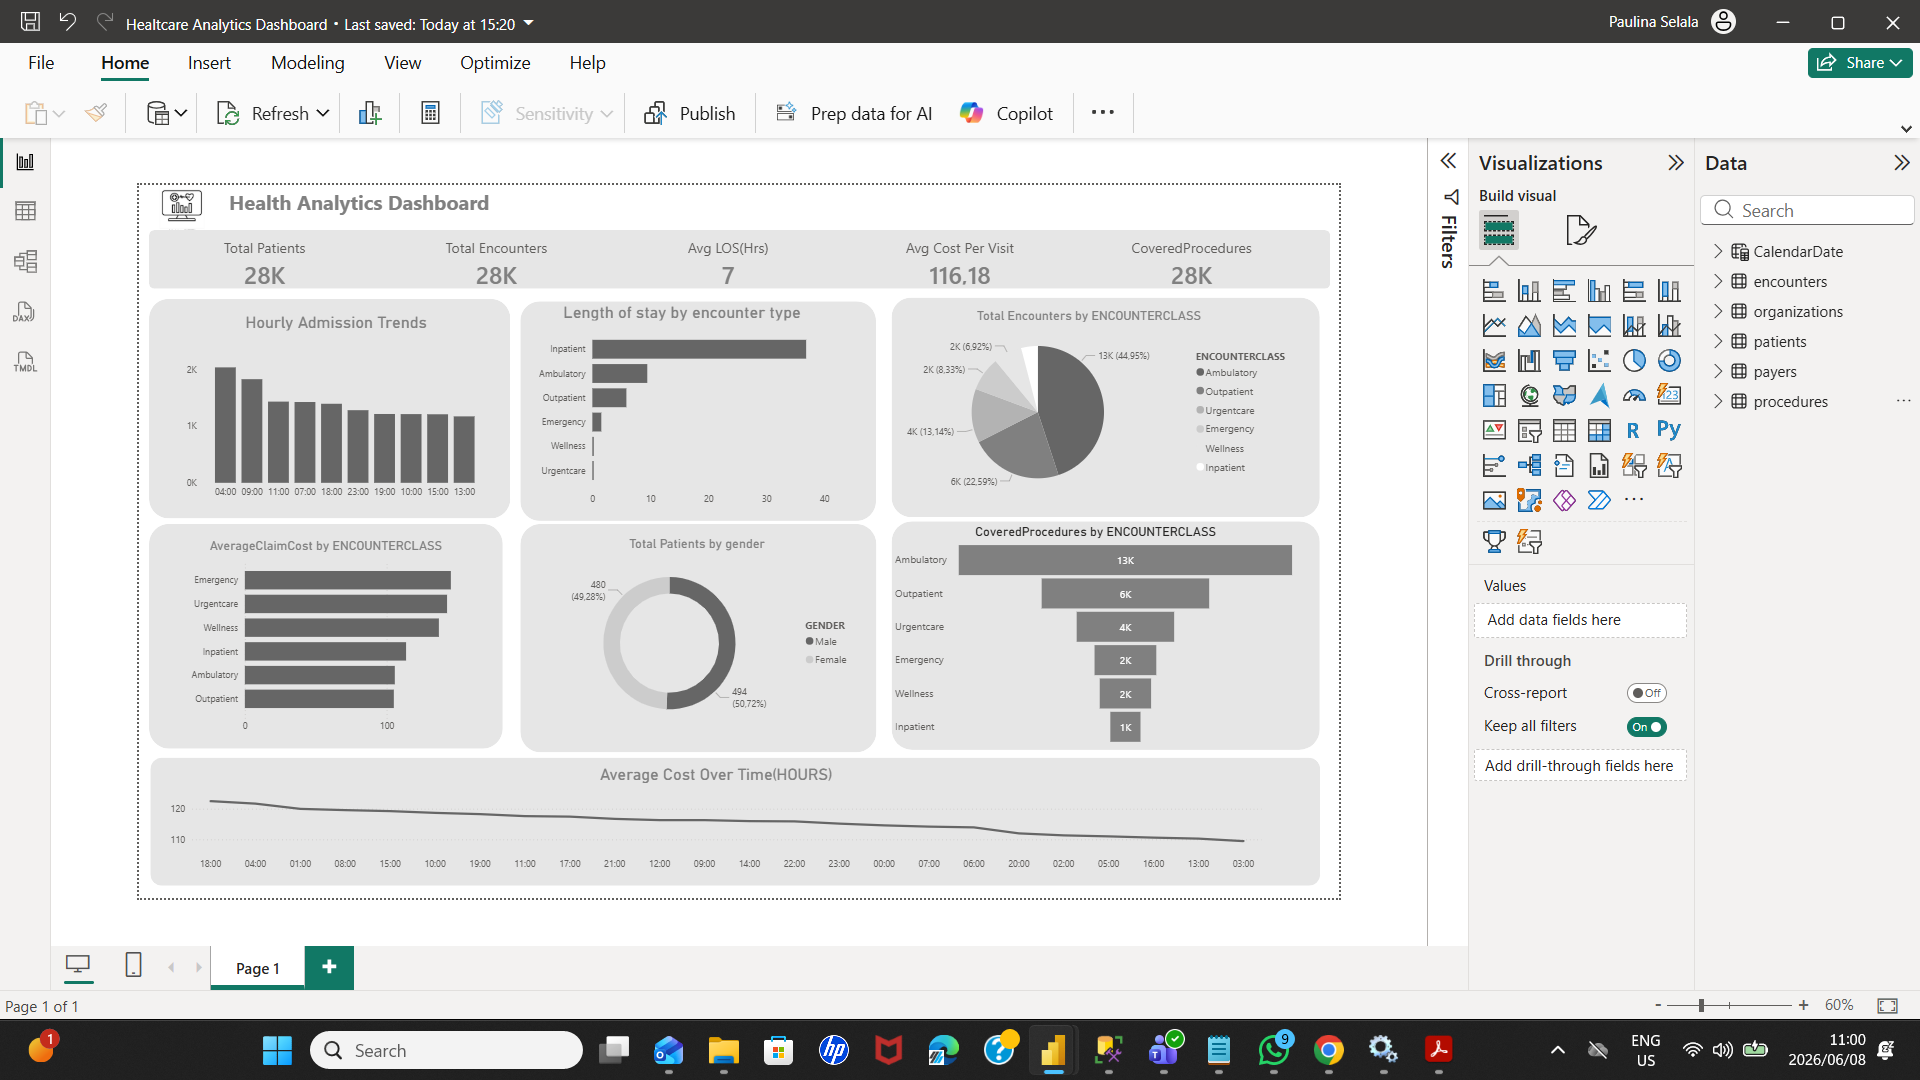

The page's visual inventory and layout, read from the dashboard file:
{"tool":"powerbi","page":{"name":"Page 1","canvas":[1600,950],"ordinal":0},"visuals":[{"type":"textbox","box":[115,0,380,60],"z":0},{"type":"image","box":[0,0,115,60],"z":1000},{"type":"shape","box":[13.3,60,1575,78.3],"z":2000},{"type":"shape","box":[13.4,151.7,481.8,293],"z":3000},{"type":"cardVisual","fields":{"Data":["encounters.NumberOfPatient","encounters.Total Encounters","encounters.Avg LOS(Hrs)","encounters.Avg Cost Per Visit","encounters.CoveredProcedures"]},"box":[0,60,1575,90],"z":4000},{"type":"columnChart","title":"Hourly Admission Trends","fields":{"Category":["encounters.AdmissionHour"],"Y":["encounters.Total Admissions"]},"box":[58,169.5,409,257.3],"z":5000},{"type":"shape","box":[508.6,154.7,474.4,293],"z":6000},{"type":"clusteredBarChart","title":"Length of stay by encounter type","fields":{"Y":["encounters.Avg LOS(Hrs)"],"Category":["encounters.ENCOUNTERCLASS"]},"box":[522,156.2,404.5,279.6],"z":7000},{"type":"shape","box":[14.9,762.9,1560,171],"z":8000},{"type":"lineChart","title":"Average Cost Over Time(HOURS)","fields":{"Category":["encounters.AdmissionHour"],"Y":["encounters.Avg Cost Per Visit"]},"box":[37.1,772.8,1465,150.1],"z":9000},{"type":"shape","box":[1003.8,150.2,571.1,293],"z":10000},{"type":"pieChart","fields":{"Category":["encounters.ENCOUNTERCLASS"],"Y":["encounters.Total Encounters"]},"box":[983,163.6,566.6,260.3],"z":11000},{"type":"shape","box":[13.3,451.7,471.7,300],"z":12000},{"type":"barChart","fields":{"Category":["encounters.ENCOUNTERCLASS"],"Y":["encounters.AverageClaimCost"]},"box":[58.3,470,381.7,270],"z":13000},{"type":"shape","box":[508.3,451.7,475,305],"z":14000},{"type":"donutChart","title":"Total Patients by gender","fields":{"Category":["patients.GENDER"],"Y":["patients.NumberOfPatients"]},"box":[522,468.5,444.7,266.2],"z":15000},{"type":"shape","box":[1003.8,447.6,571.1,304.9],"z":15002},{"type":"funnel","fields":{"Category":["encounters.ENCOUNTERCLASS"],"Y":["encounters.CoveredProcedures"]},"box":[1003.8,452.1,544.3,300.4],"z":15003}]}

Visuals, with their boxes on the page's 1600x950 design canvas (x1, y1, x2, y2). These are canvas units, not pixel positions in the 1920x1080 screenshot, which may show the page scaled, cropped or inside an application window:
textbox: (115, 0, 495, 60)
image: (0, 0, 115, 60)
shape: (13, 60, 1588, 138)
shape: (13, 152, 495, 445)
cardVisual - encounters.NumberOfPatient x encounters.Total Encounters: (0, 60, 1575, 150)
"Hourly Admission Trends" columnChart: (58, 170, 467, 427)
shape: (509, 155, 983, 448)
"Length of stay by encounter type" clusteredBarChart: (522, 156, 926, 436)
shape: (15, 763, 1575, 934)
"Average Cost Over Time(HOURS)" lineChart: (37, 773, 1502, 923)
shape: (1004, 150, 1575, 443)
pieChart - encounters.ENCOUNTERCLASS x encounters.Total Encounters: (983, 164, 1550, 424)
shape: (13, 452, 485, 752)
barChart - encounters.ENCOUNTERCLASS x encounters.AverageClaimCost: (58, 470, 440, 740)
shape: (508, 452, 983, 757)
"Total Patients by gender" donutChart: (522, 468, 967, 735)
shape: (1004, 448, 1575, 752)
funnel - encounters.ENCOUNTERCLASS x encounters.CoveredProcedures: (1004, 452, 1548, 752)
